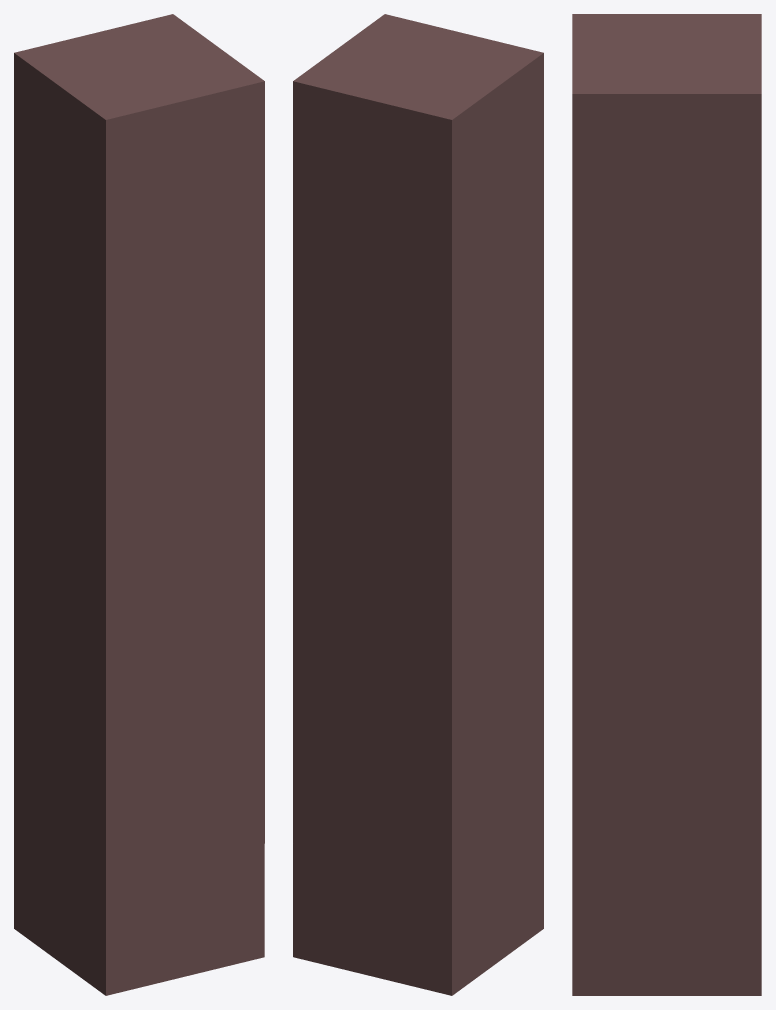
Rendered from constru_blocks.fbx.
3 views of the same model, side by side, from view 1: azimuth 30°, elevation 25°; view 2: azimuth 150°, elevation 25°; view 3: azimuth 270°, elevation 25° (orthographic). The views are drawn at different scales.
Parts seen in each view (by area): view 1: cube_full, cube_half_cut, cube_small_full, cube_half_full, cube_small_cut, cube_arch1, cube_cut, cube_small_plane; view 2: cube_full, cube_half_full, cube_arch1, cube_small_plane, cube_small_full, cube_plane; view 3: cube_arch1, cube_small_cut, cube_cut, cube_half_cut, cube_full, cube_small_full, cube_half_full, cube_plane, cube_half_plane.
Part boxes in pixels (left/top/right/bottom): cube_full: left=14, top=14, right=264, bottom=995; cube_half_cut: left=106, top=52, right=264, bottom=994; cube_small_full: left=149, top=48, right=264, bottom=975; cube_half_full: left=60, top=48, right=261, bottom=994; cube_small_cut: left=185, top=68, right=264, bottom=973; cube_arch1: left=15, top=14, right=264, bottom=186; cube_cut: left=110, top=14, right=259, bottom=117; cube_small_plane: left=140, top=48, right=252, bottom=99; cube_full: left=293, top=14, right=543, bottom=995; cube_half_full: left=343, top=15, right=543, bottom=961; cube_arch1: left=293, top=15, right=542, bottom=956; cube_small_plane: left=340, top=21, right=452, bottom=66; cube_small_full: left=340, top=14, right=463, bottom=63; cube_plane: left=294, top=38, right=521, bottom=118; cube_arch1: left=572, top=14, right=761, bottom=995; cube_small_cut: left=572, top=57, right=666, bottom=995; cube_cut: left=572, top=14, right=676, bottom=995; cube_half_cut: left=572, top=14, right=666, bottom=995; cube_full: left=572, top=14, right=761, bottom=590; cube_small_full: left=572, top=54, right=666, bottom=590; cube_half_full: left=572, top=14, right=666, bottom=877; cube_plane: left=573, top=14, right=761, bottom=92; cube_half_plane: left=572, top=14, right=666, bottom=84.
Bounding box in the file's own units: 500 × 2631 × 500.
